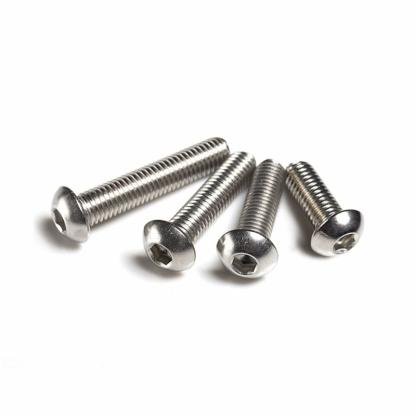FOD: (50, 137, 232, 243), (140, 148, 257, 274), (282, 148, 366, 260), (214, 155, 284, 280)
